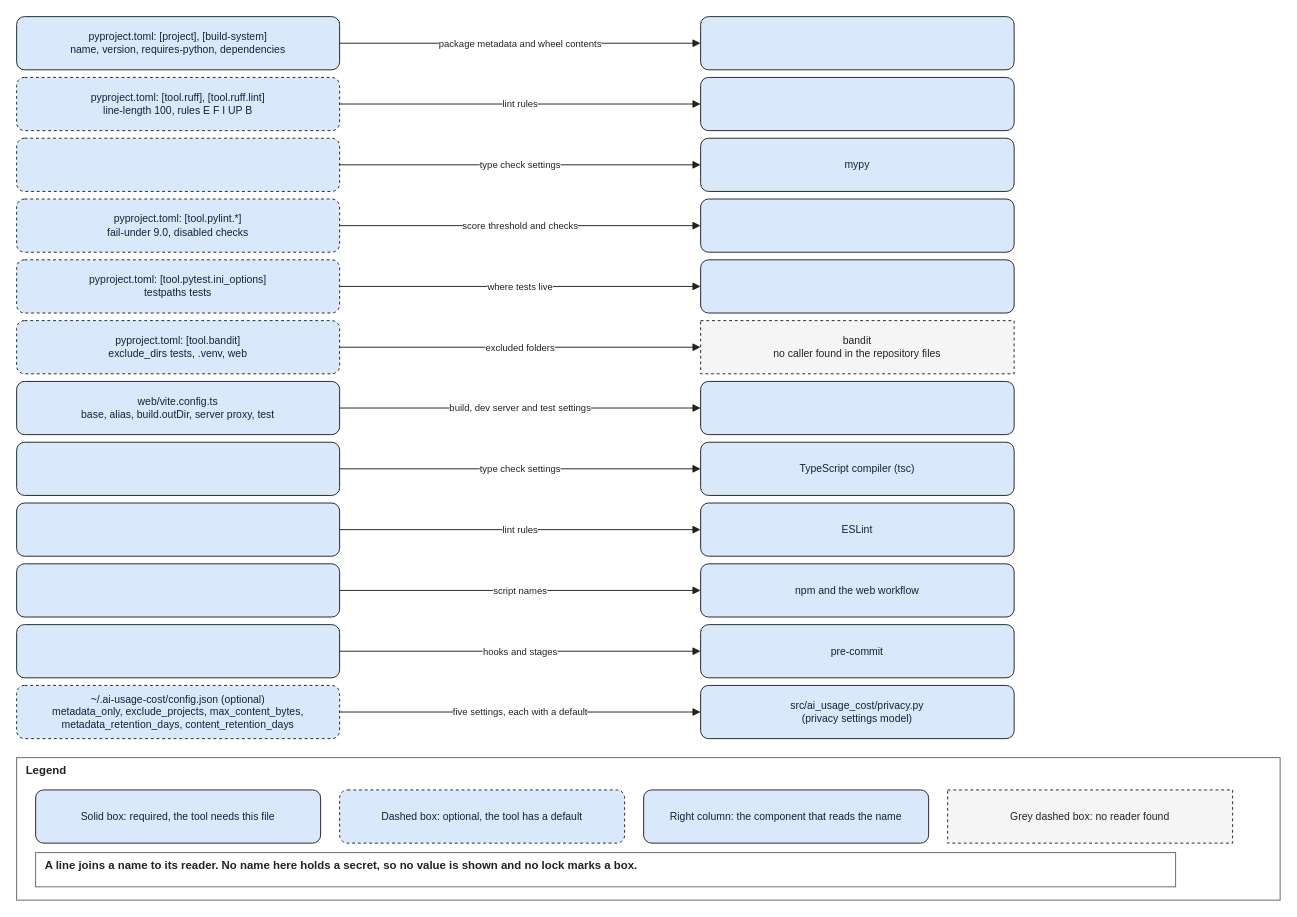
Some shapes in this 1297 by 917 pixel diagram are drawn without their labels. The centre of each missing label's shape, as x and y in pixels:
.pre-commit-config.yaml ruff, ruff-format, pylint, eslint, mypy (manual): pixel 178 651
hatchling, pip or uv (build and install): pixel 857 43
pylint: pixel 857 225
pyproject.toml: [tool.mypy] python_version 3.11, pydantic plugin: pixel 178 164
pytest: pixel 857 286
ruff (check and format): pixel 857 103
Vite and Vitest: pixel 857 407
web/eslint.config.js rules, plugins, ignored folders: pixel 178 529
web/package.json: scripts dev, build, preview, typecheck, lint, test: pixel 178 590
web/tsconfig.json strict, unused checks, @ path alias: pixel 178 468
